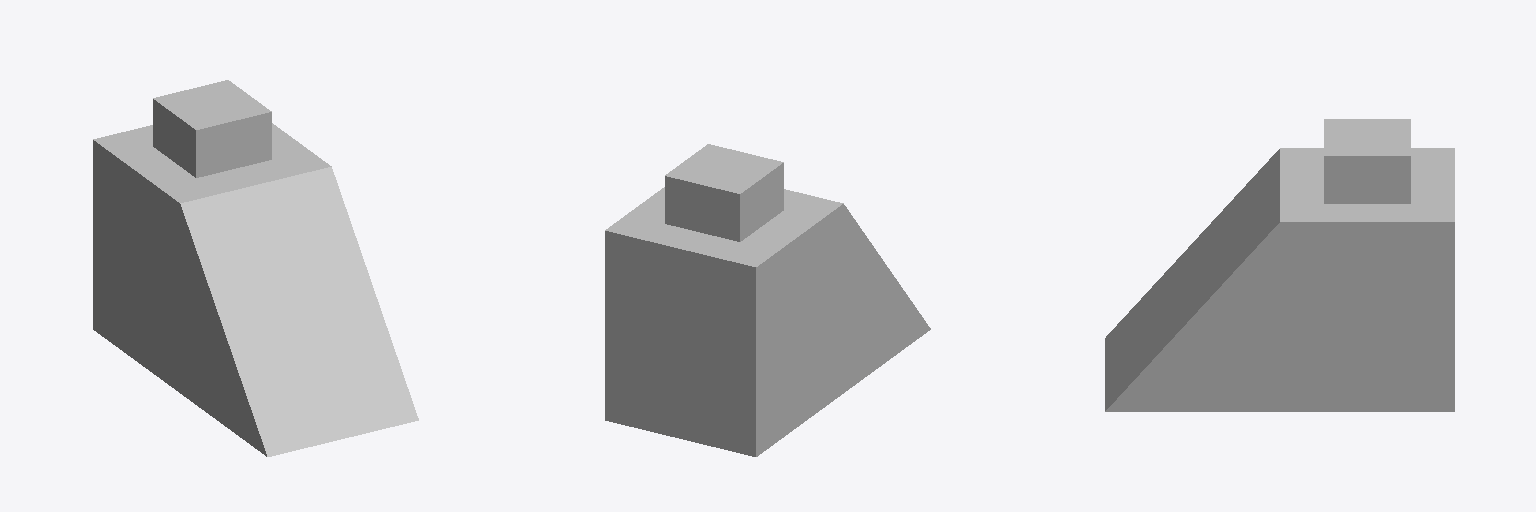
File: block_1x2o.obj
3 views of the same model, side by side, from view 1: azimuth 30°, elevation 25°; view 2: azimuth 150°, elevation 25°; view 3: azimuth 270°, elevation 25° (orthographic).
Size of the model in its own units: 1 by 1.5 by 2.